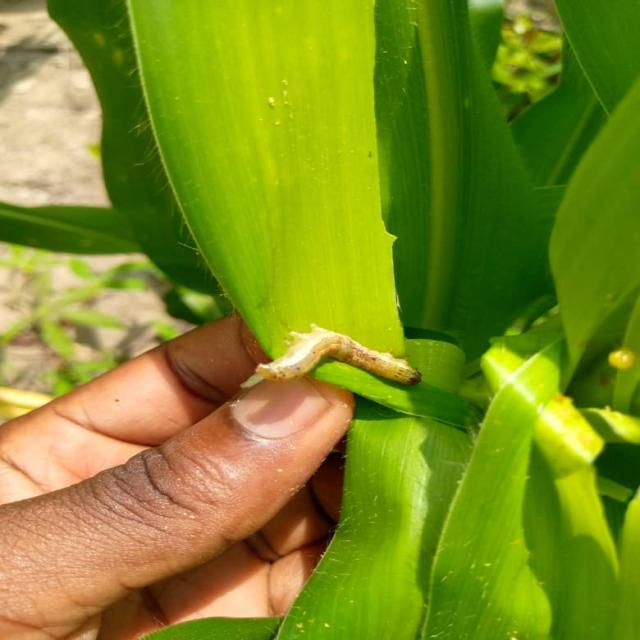yellow-stem-borer-larva: (242, 301, 439, 424)
